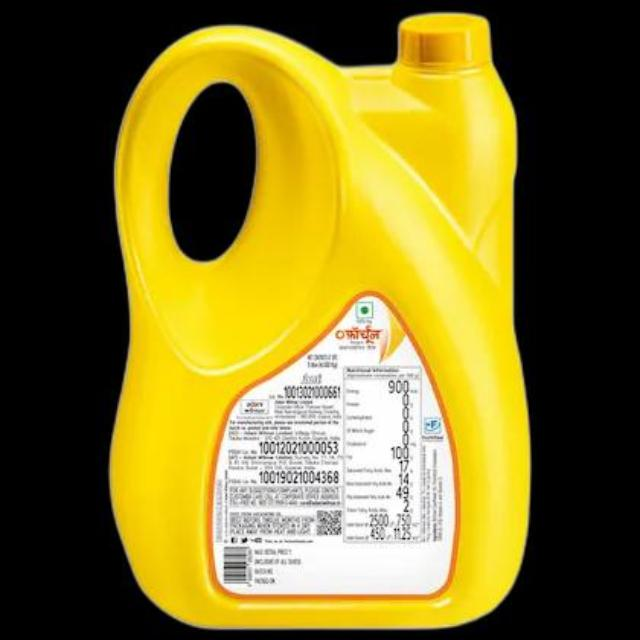Fortune Sunlite Refined Sunflower Oil 5 L: (112, 16, 534, 624)
